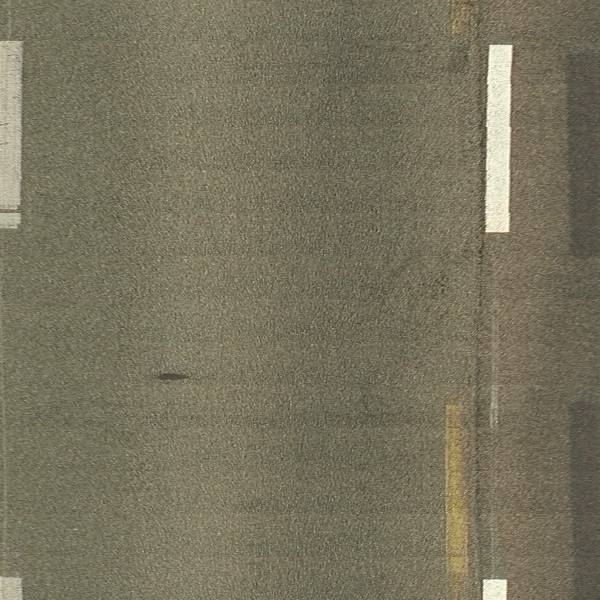road_damage: (465, 231, 494, 574)
